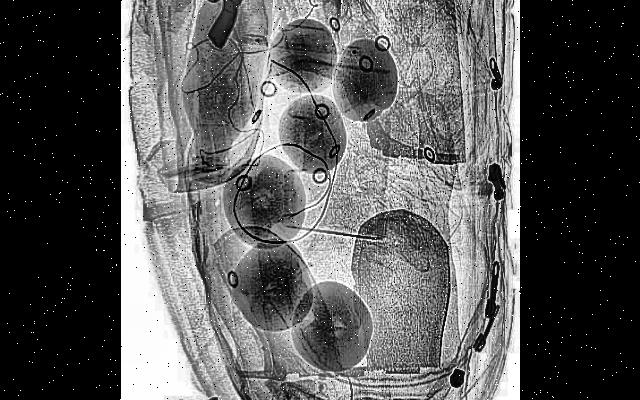Gun: (170, 0, 259, 57)
